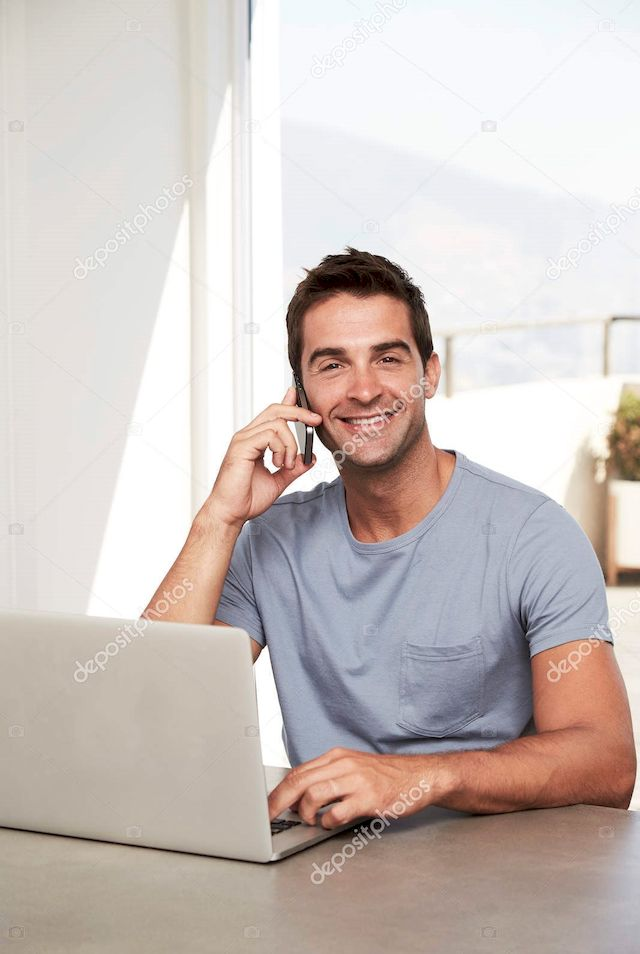phone: (278, 359, 318, 465)
talk: (224, 330, 430, 499)
